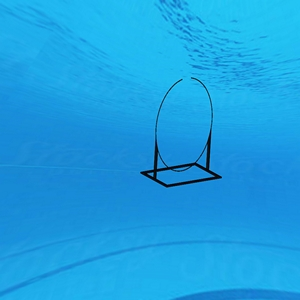circle: (140, 76, 225, 191)
